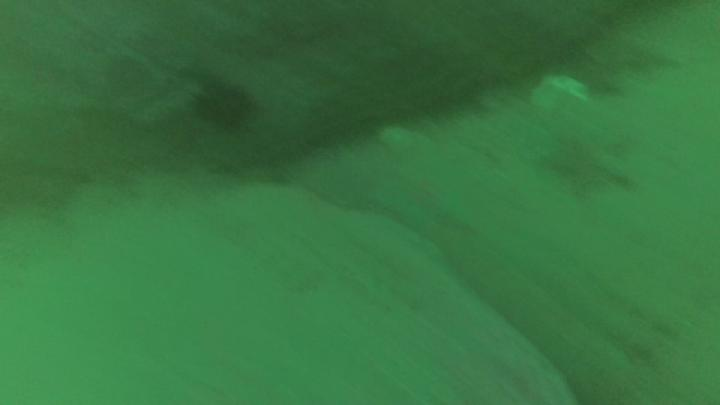echinus: (189, 72, 263, 138)
starfish: (539, 133, 637, 203)
